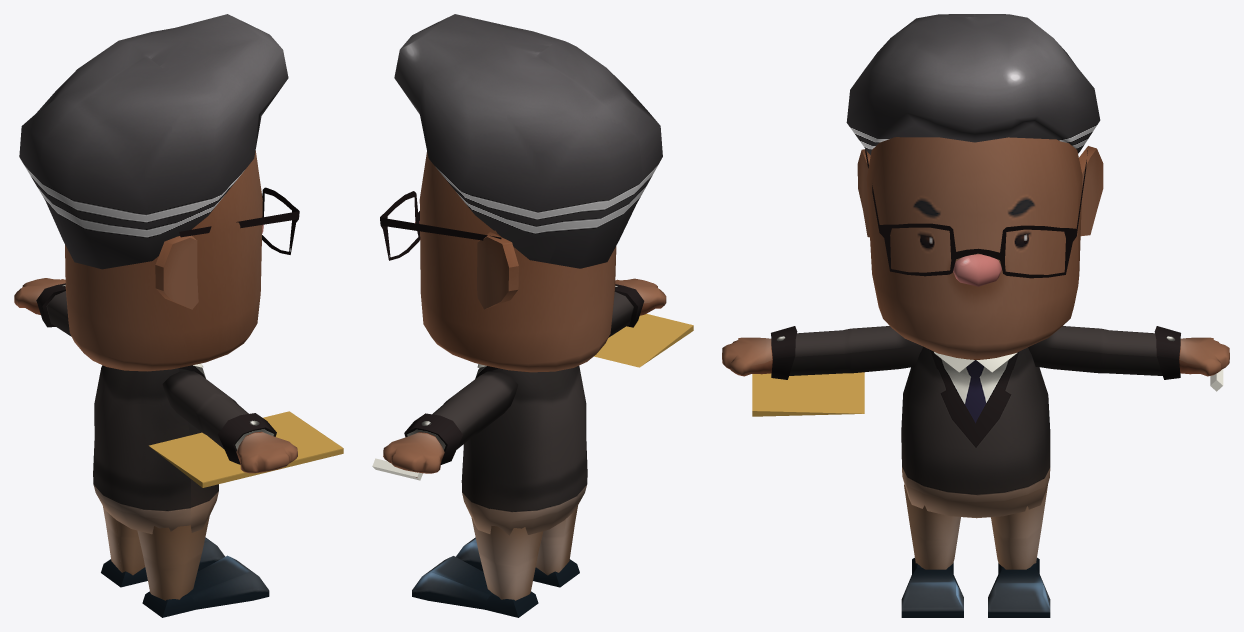
The model's file is Char_Sci_Math_06.fbx.
The picture shows the model from 3 angles, left to right: view 1: azimuth 30°, elevation 25°; view 2: azimuth 150°, elevation 25°; view 3: azimuth 270°, elevation 25°; orthographic projection. The views are drawn at different scales.
Parts seen in each view (by area): view 1: Hair_DOM, Head_DOM, Body_DOM, R_Leg_DOM, R_Arm_DOM, File_DOM, L_Leg_DOM, R_Ear_DOM, L_Arm_DOM, Spectacle_DOM; view 2: Hair_DOM, Head_DOM, Body_DOM, L_Leg_DOM, L_Arm_DOM, File_DOM, R_Leg_DOM, L_Ear_DOM, R_Arm_DOM, Spectacle_DOM, Pen_DOM; view 3: Head_DOM, Hair_DOM, Body_DOM, L_Arm_DOM, R_Arm_DOM, R_Leg_DOM, L_Leg_DOM, File_DOM, Spectacle_DOM, L_Ear_DOM, Nose_DOM, R_Ear_DOM.
Boxes of the visible parts, box(x1,y1,x2,y2) form: Hair_DOM: box(19, 14, 288, 269); Head_DOM: box(65, 151, 262, 371); Body_DOM: box(93, 365, 218, 534); R_Leg_DOM: box(137, 516, 269, 617); R_Arm_DOM: box(162, 371, 297, 473); File_DOM: box(149, 411, 343, 487); L_Leg_DOM: box(101, 506, 225, 587); R_Ear_DOM: box(155, 235, 198, 309); L_Arm_DOM: box(14, 278, 71, 336); Spectacle_DOM: box(179, 187, 299, 254); Hair_DOM: box(394, 14, 662, 268); Head_DOM: box(419, 151, 616, 372); Body_DOM: box(461, 366, 587, 535); L_Leg_DOM: box(412, 517, 543, 617); L_Arm_DOM: box(383, 372, 518, 473); File_DOM: box(594, 314, 693, 367); R_Leg_DOM: box(456, 506, 579, 587); L_Ear_DOM: box(477, 232, 518, 309); R_Arm_DOM: box(608, 278, 666, 337); Spectacle_DOM: box(380, 191, 501, 260); Pen_DOM: box(372, 458, 422, 480); Head_DOM: box(866, 137, 1082, 359); Hair_DOM: box(846, 14, 1100, 154); Body_DOM: box(901, 346, 1050, 518); L_Arm_DOM: box(1028, 326, 1229, 379); R_Arm_DOM: box(722, 326, 923, 379); R_Leg_DOM: box(901, 484, 963, 617); L_Leg_DOM: box(988, 485, 1050, 617); File_DOM: box(752, 372, 864, 416); Spectacle_DOM: box(865, 149, 1087, 278); L_Ear_DOM: box(1079, 146, 1103, 236); Nose_DOM: box(953, 254, 1001, 286); R_Ear_DOM: box(857, 149, 870, 237).
Size of the model in its own units: 3.81 by 8.29 by 6.77.
